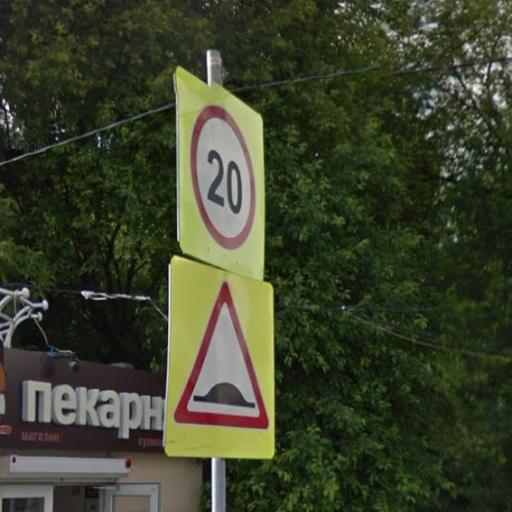traffic_sign: (172, 280, 275, 435), (190, 102, 260, 254)
